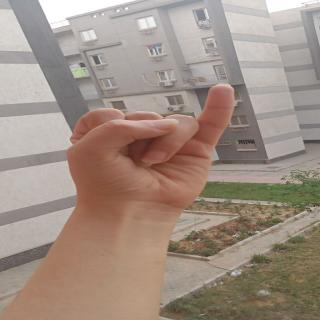MEEM: (61, 77, 248, 226)
